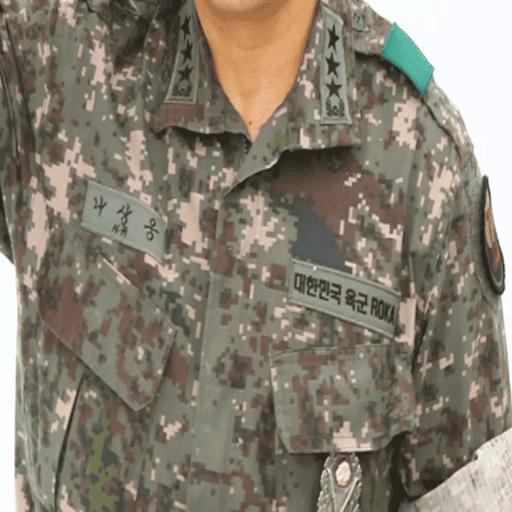korea army: (5, 7, 484, 500)
